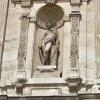Statue: (36, 14, 68, 83)
